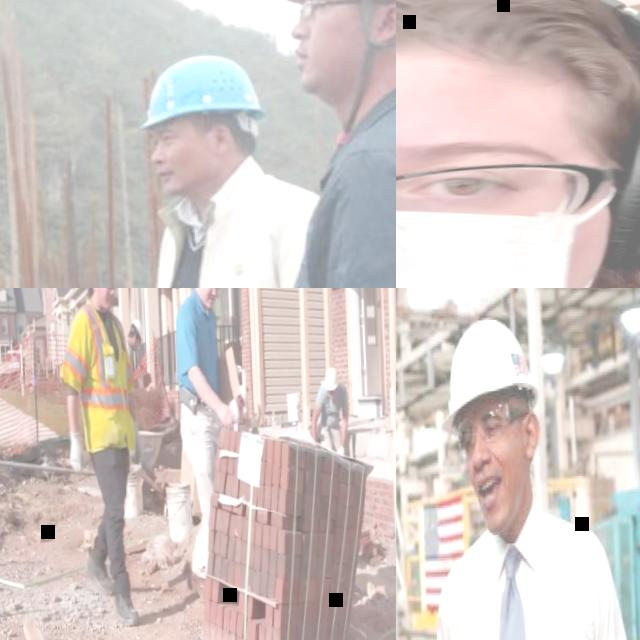Hardhat: (434, 315, 541, 435), (134, 54, 266, 129), (323, 365, 338, 389), (130, 317, 141, 340), (238, 384, 249, 404)
Mask: (396, 202, 629, 288)
NO-Hardhat: (396, 0, 640, 139)
NO-Mask: (293, 26, 385, 101), (469, 444, 531, 537), (154, 155, 219, 195), (93, 291, 113, 315), (200, 290, 214, 307), (328, 395, 335, 405)
NO-Safety Vest: (443, 512, 616, 640), (272, 111, 396, 288), (156, 189, 313, 288), (175, 300, 219, 408), (319, 387, 345, 434), (229, 398, 241, 430), (125, 347, 134, 372)
Person: (407, 311, 640, 640), (396, 0, 640, 288), (135, 46, 331, 288), (264, 0, 396, 288), (57, 288, 143, 628), (169, 288, 240, 597), (309, 364, 351, 460), (125, 316, 143, 387), (229, 385, 250, 428)
Safety Vest: (57, 299, 131, 454)
